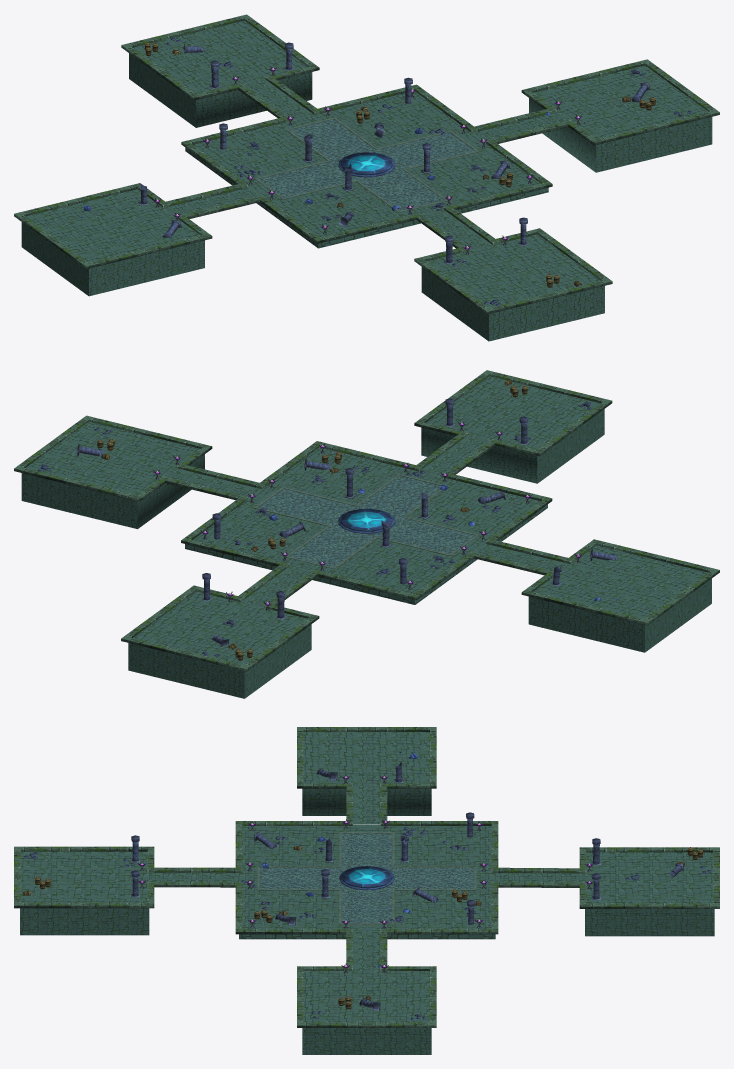
The picture shows the model from 3 angles, top to bottom: view 1: azimuth 30°, elevation 25°; view 2: azimuth 150°, elevation 25°; view 3: azimuth 270°, elevation 25°; orthographic projection. The views are drawn at different scales.
Parts seen in each view (by area): view 1: dibiao2, lubian, dibiao1, zhuzi, yuanpan, mutong, dizhuan, huopen; view 2: dibiao2, lubian, dibiao1, zhuzi, yuanpan, mutong, dizhuan, huopen; view 3: dibiao2, lubian, dibiao1, zhuzi, yuanpan, mutong, huopen, dizhuan.
Part boxes in pixels (left/top/right/bottom): dibiao2: left=21, top=20, right=712, bottom=341; lubian: left=14, top=14, right=719, bottom=314; dibiao1: left=256, top=119, right=474, bottom=212; zhuzi: left=138, top=42, right=650, bottom=263; yuanpan: left=338, top=152, right=395, bottom=177; mutong: left=144, top=42, right=655, bottom=287; dizhuan: left=166, top=38, right=691, bottom=305; huopen: left=153, top=66, right=582, bottom=254; dibiao2: left=21, top=376, right=711, bottom=698; lubian: left=14, top=370, right=719, bottom=671; dibiao1: left=258, top=475, right=477, bottom=568; zhuzi: left=77, top=398, right=617, bottom=646; yuanpan: left=338, top=508, right=395, bottom=533; mutong: left=97, top=379, right=527, bottom=660; dizhuan: left=37, top=402, right=592, bottom=656; huopen: left=153, top=421, right=582, bottom=610; dibiao2: left=20, top=732, right=714, bottom=1054; lubian: left=14, top=727, right=719, bottom=1027; dibiao1: left=257, top=833, right=476, bottom=923; zhuzi: left=131, top=762, right=684, bottom=1010; yuanpan: left=339, top=866, right=394, bottom=890; mutong: left=23, top=846, right=703, bottom=1009; huopen: left=137, top=774, right=593, bottom=973; dizhuan: left=24, top=827, right=711, bottom=1020.
Bounding box in the file's own units: 11900 × 1038 × 11900.
9 materials, 9 textured.
